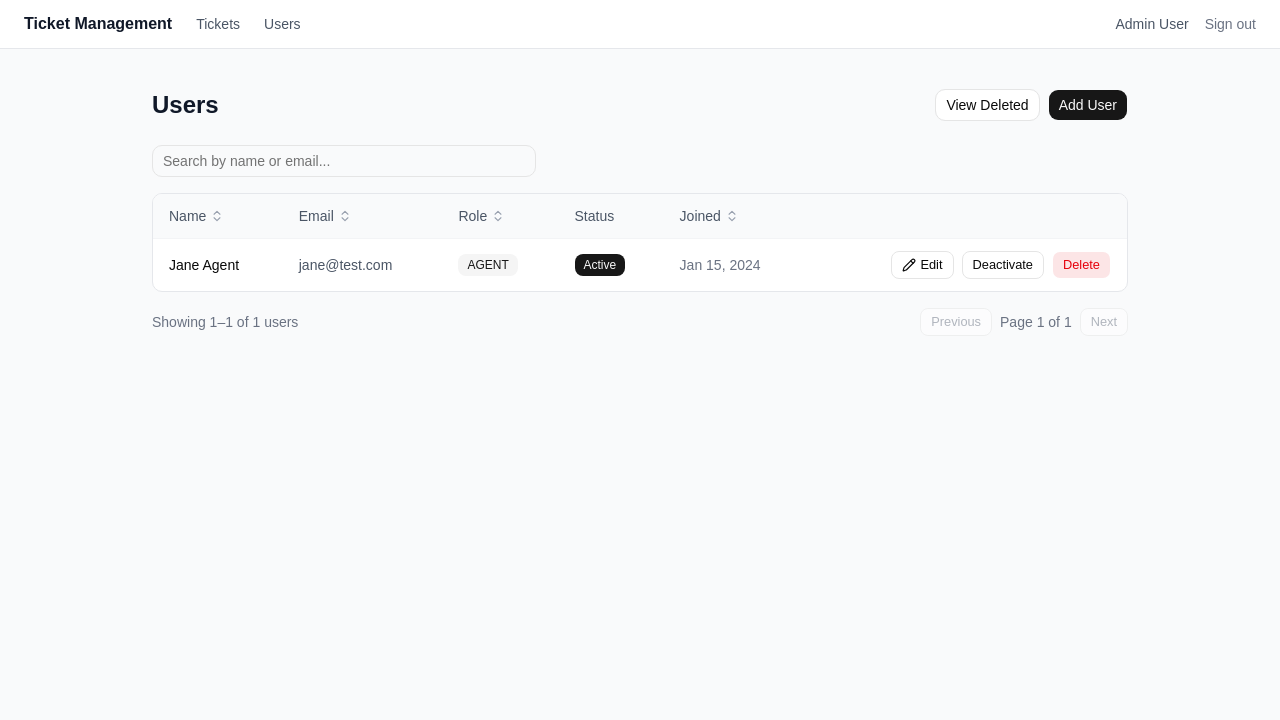
Test case: UsersPage › Edit User dialog › shows error when name and email are cleared
The width and height of the screenshot is (1280, 720).
Check: the text "Jane Agent" is shown, box [153,238,283,291]
Click the button "Edit" at (923, 265), box [892,251,954,279]
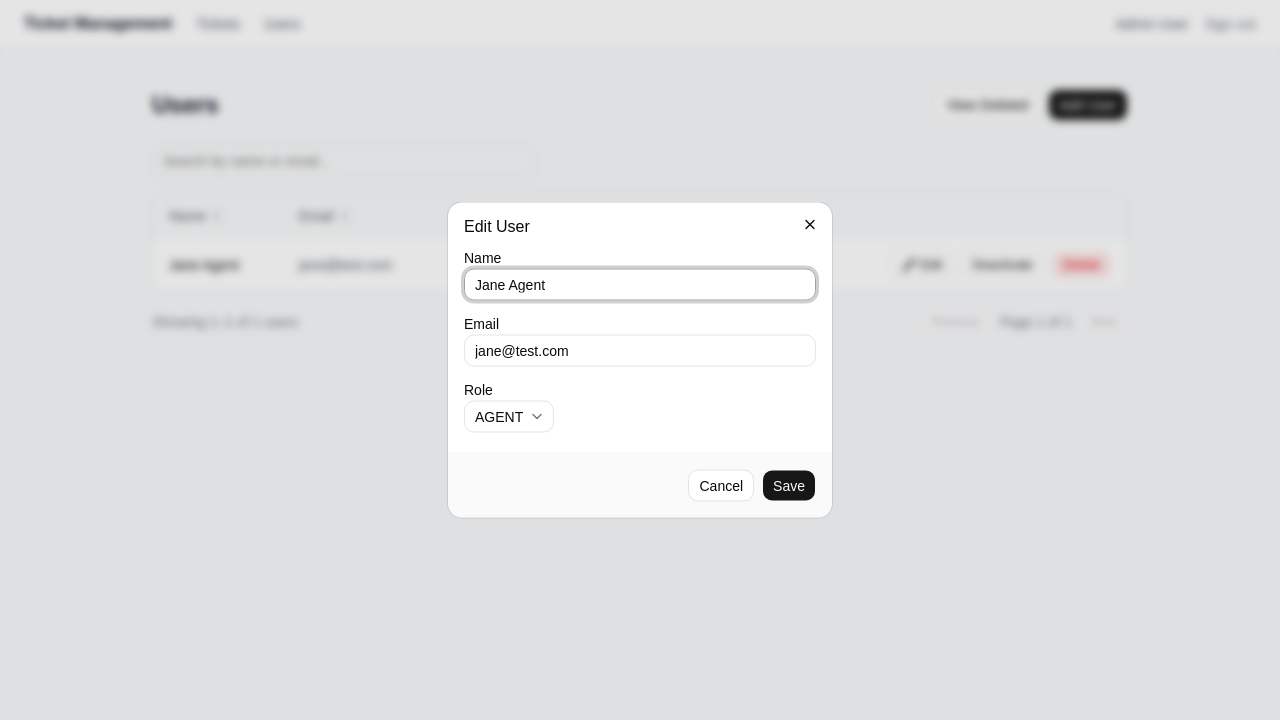
Check: the heading "Edit User" is shown, box [464,218,530,234]
Clear the field showing "Jane Agent" at (640, 284), box [464,268,816,300]
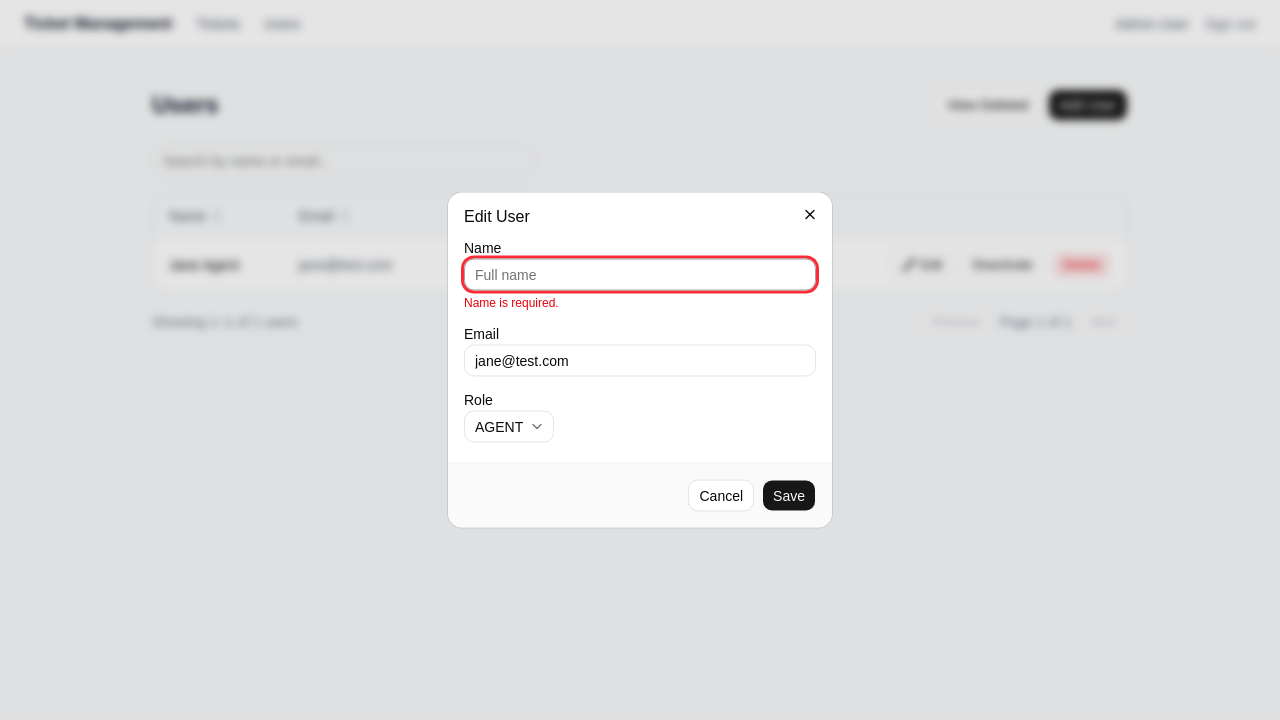
Clear the field showing "jane@test.com" at (640, 360), box [464,344,816,376]
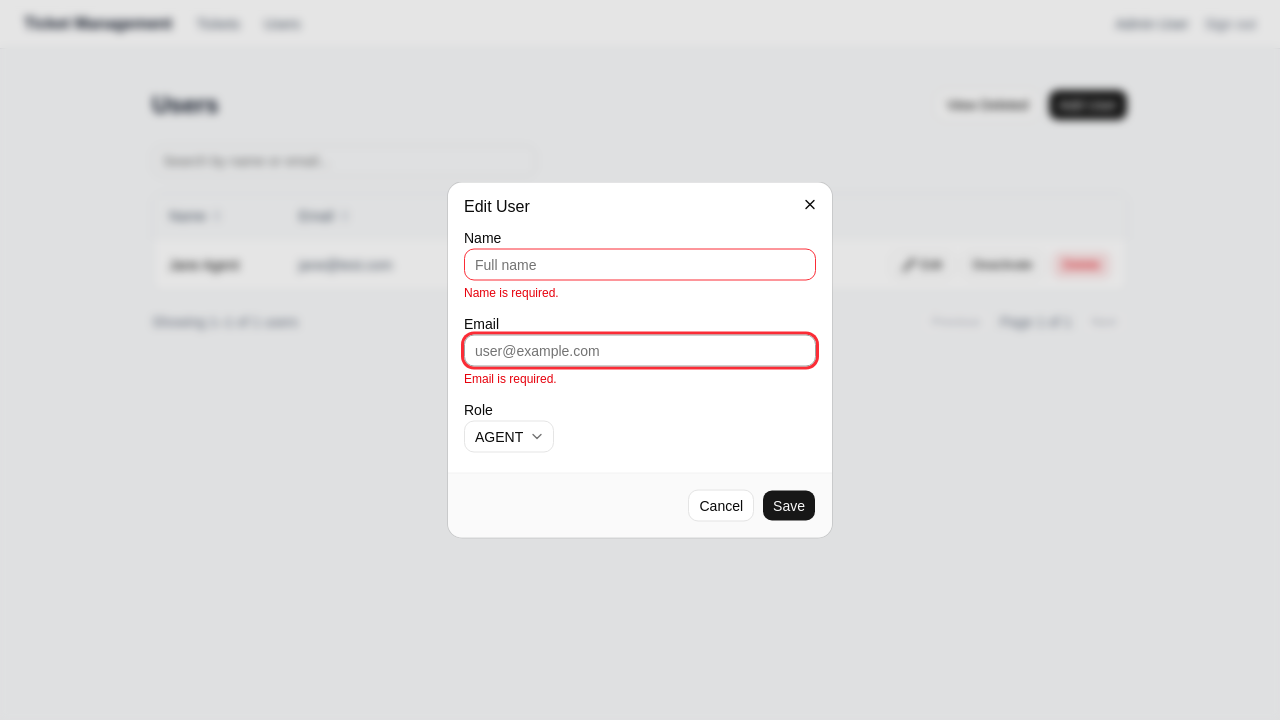
Click the button "Save" at (789, 506), box [762,490,816,522]
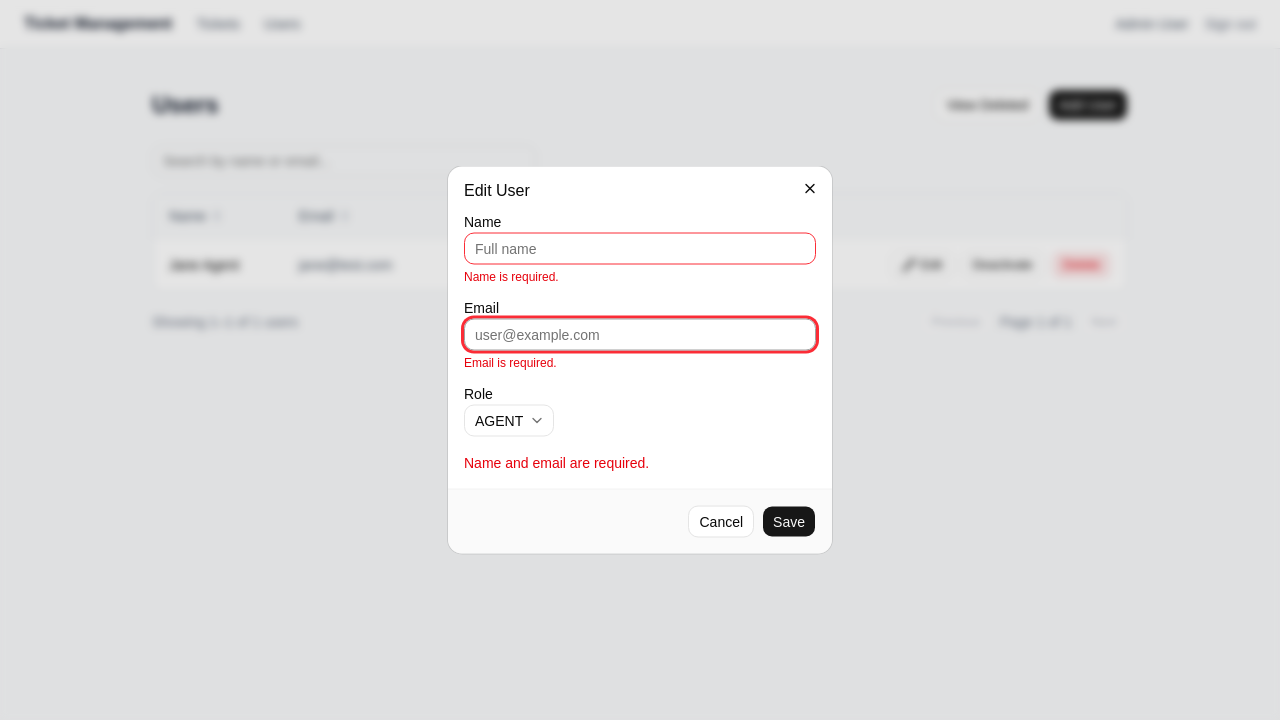
Check: the text "Name and email are required." is shown, box [464,454,649,470]
